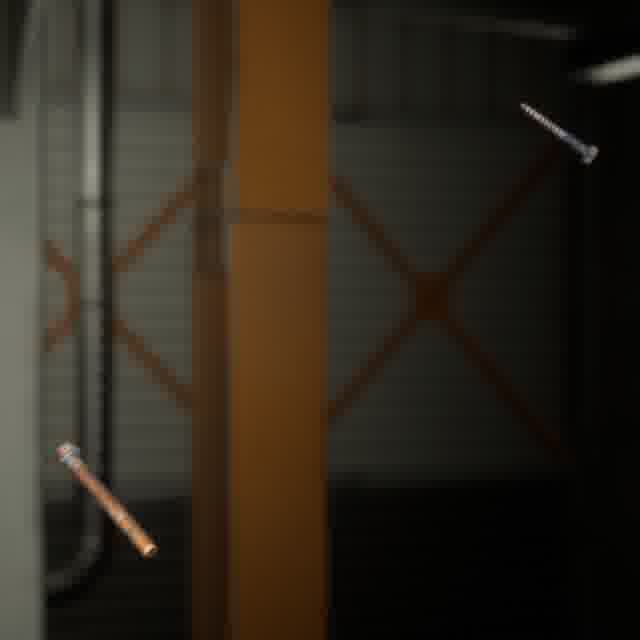bolt: (48, 437, 161, 562), (514, 97, 603, 169)
